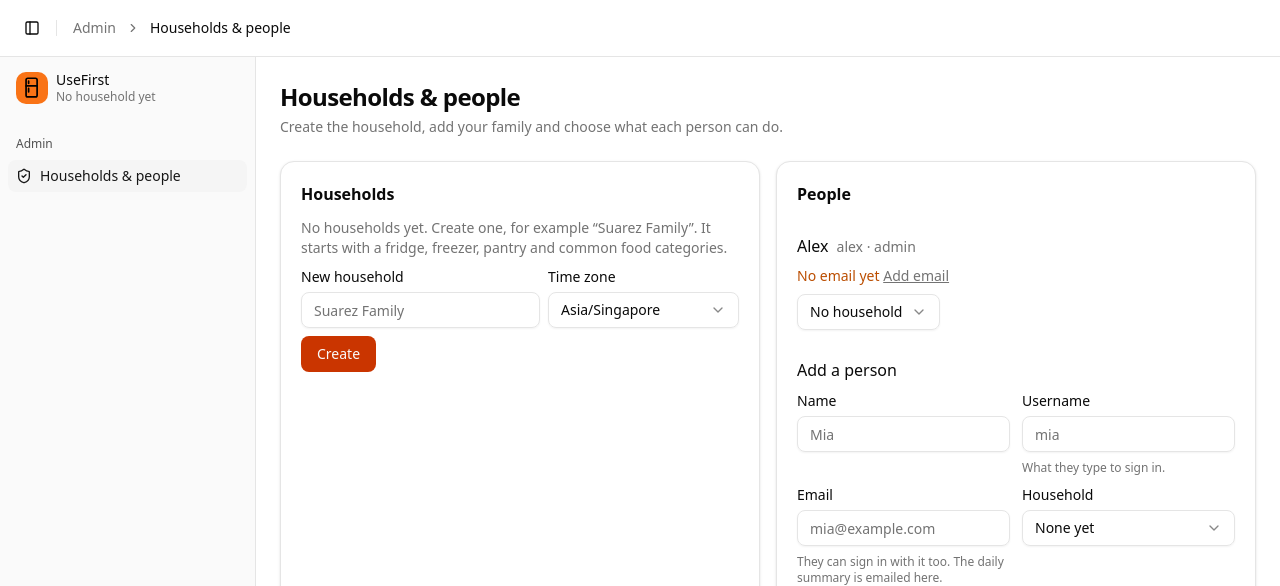
Households & people › adds an email to an older account without one
This screenshot has width=1280, height=586.
expect the text "No email yet" is shown: met, box [797,266,880,285]
Click the button "Add email" at (916, 276), box [883,266,949,286]
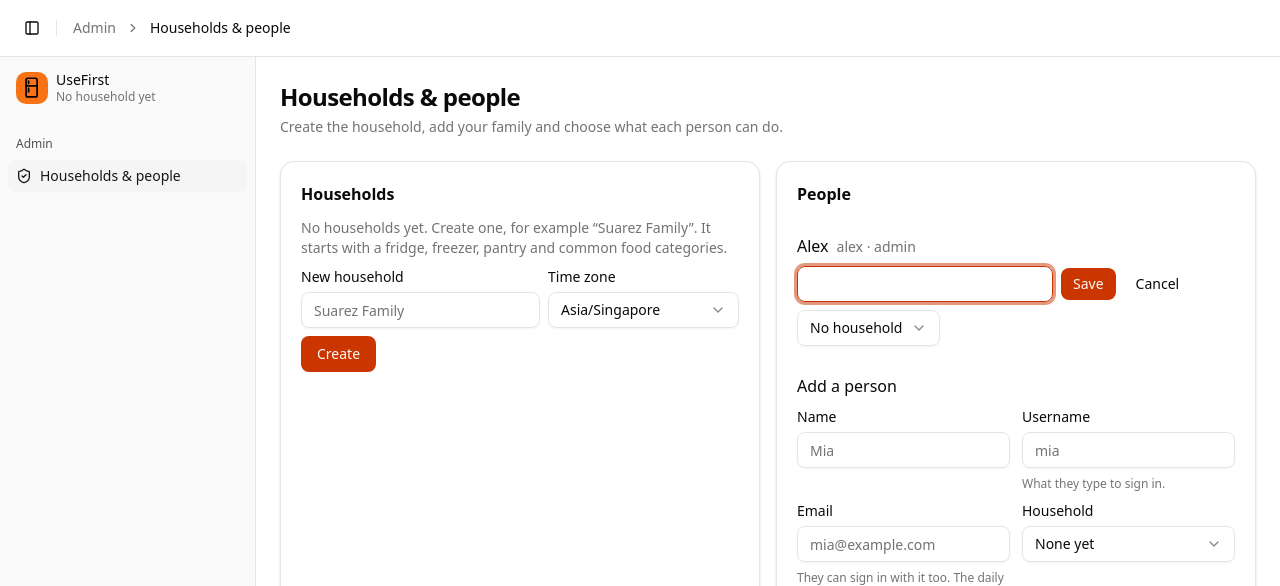
Type "alex@example.com" into the field named "Alex's email" at (925, 284), box [797,266,1053,302]
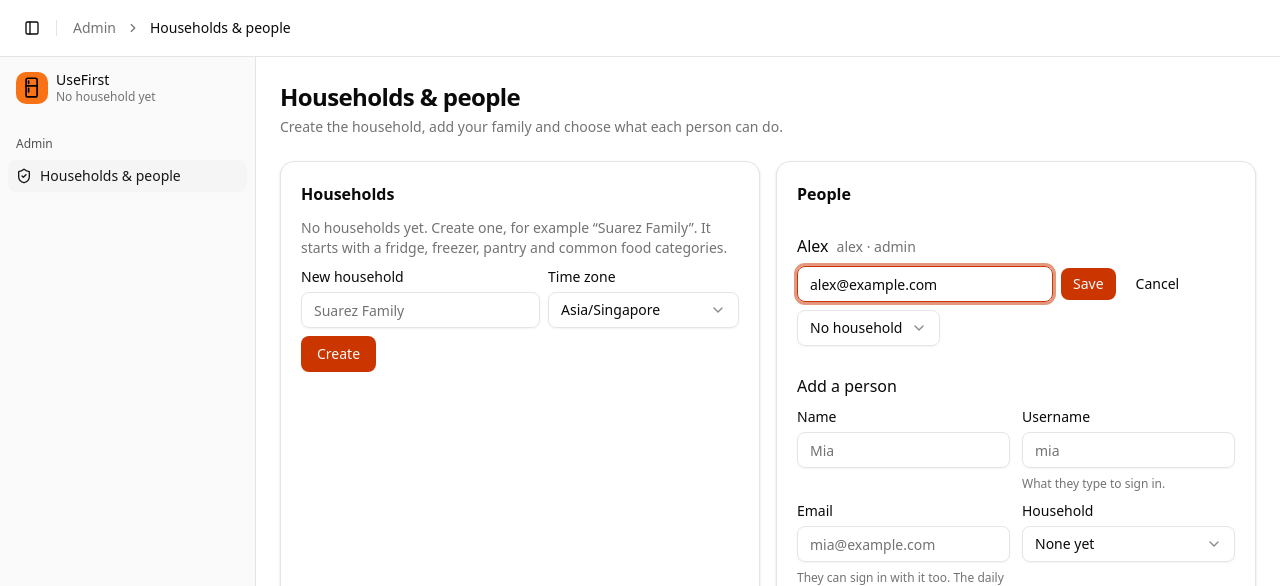
Click the button "Save" at (1088, 284), box [1061,268,1116,300]
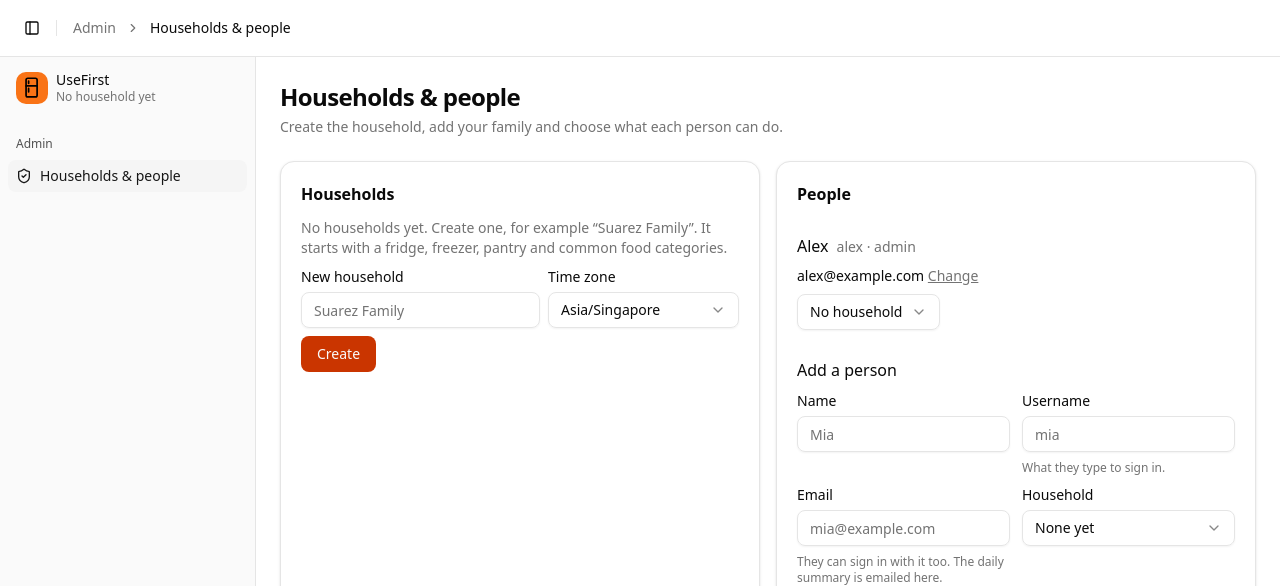
expect the text "alex@example.com" is shown: met, box [797,266,924,285]
